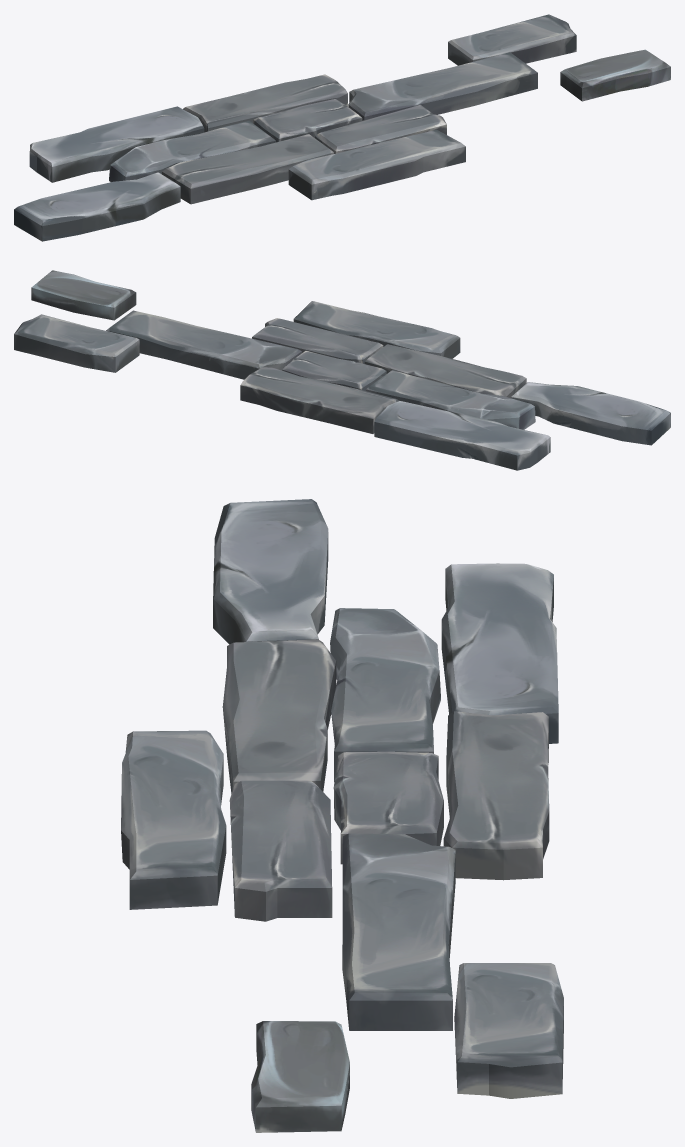
File: dimian04.fbx
3 renders of one model, top to bottom at view 1: azimuth 30°, elevation 25°; view 2: azimuth 150°, elevation 25°; view 3: azimuth 270°, elevation 25°, orthographic. The views are drawn at different scales.
Parts seen in each view (by area): view 1: DIMI004; view 2: DIMI004; view 3: DIMI004.
Part boxes in pixels (x1=…): DIMI004: x1=14, y1=14, x2=670, y2=241; DIMI004: x1=14, y1=270, x2=670, y2=470; DIMI004: x1=121, y1=499, x2=563, y2=1132.
Bounding box in the file's own units: 453 × 14.33 × 141.
Materials: 1 (1 with a texture image).
